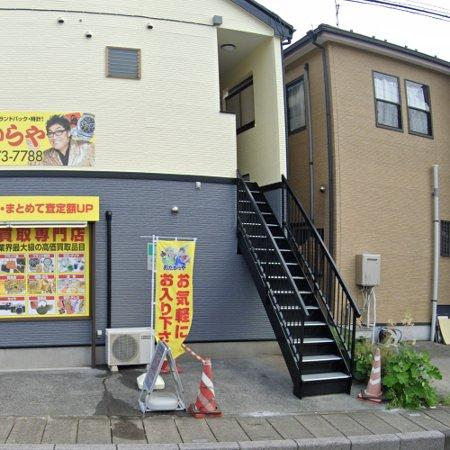stairs: (240, 177, 353, 399)
